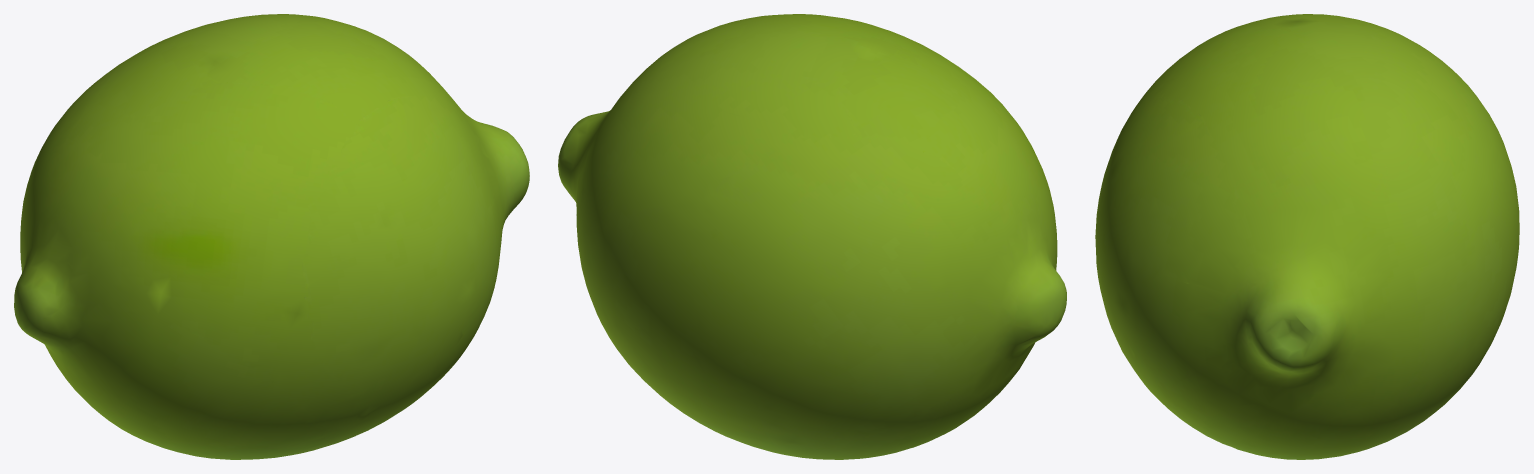
File: lime.glb
3 views of the same model, side by side, from view 1: azimuth 30°, elevation 25°; view 2: azimuth 150°, elevation 25°; view 3: azimuth 270°, elevation 25° (orthographic).
Visible parts, largest first — view 1: material; view 2: material; view 3: material.
Boxes of the visible parts, box(x1,y1,x2,y2) form: material: box(14, 14, 529, 459); material: box(558, 14, 1066, 459); material: box(1095, 14, 1519, 459).
Size of the model in its own units: 1.19 by 0.9251 by 0.8976.
Materials: 1 (1 with a texture image).
